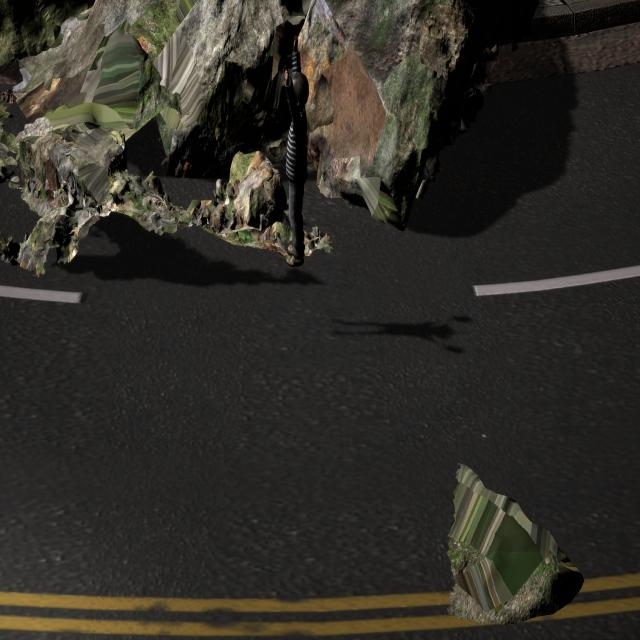Human: (277, 30, 311, 277)
